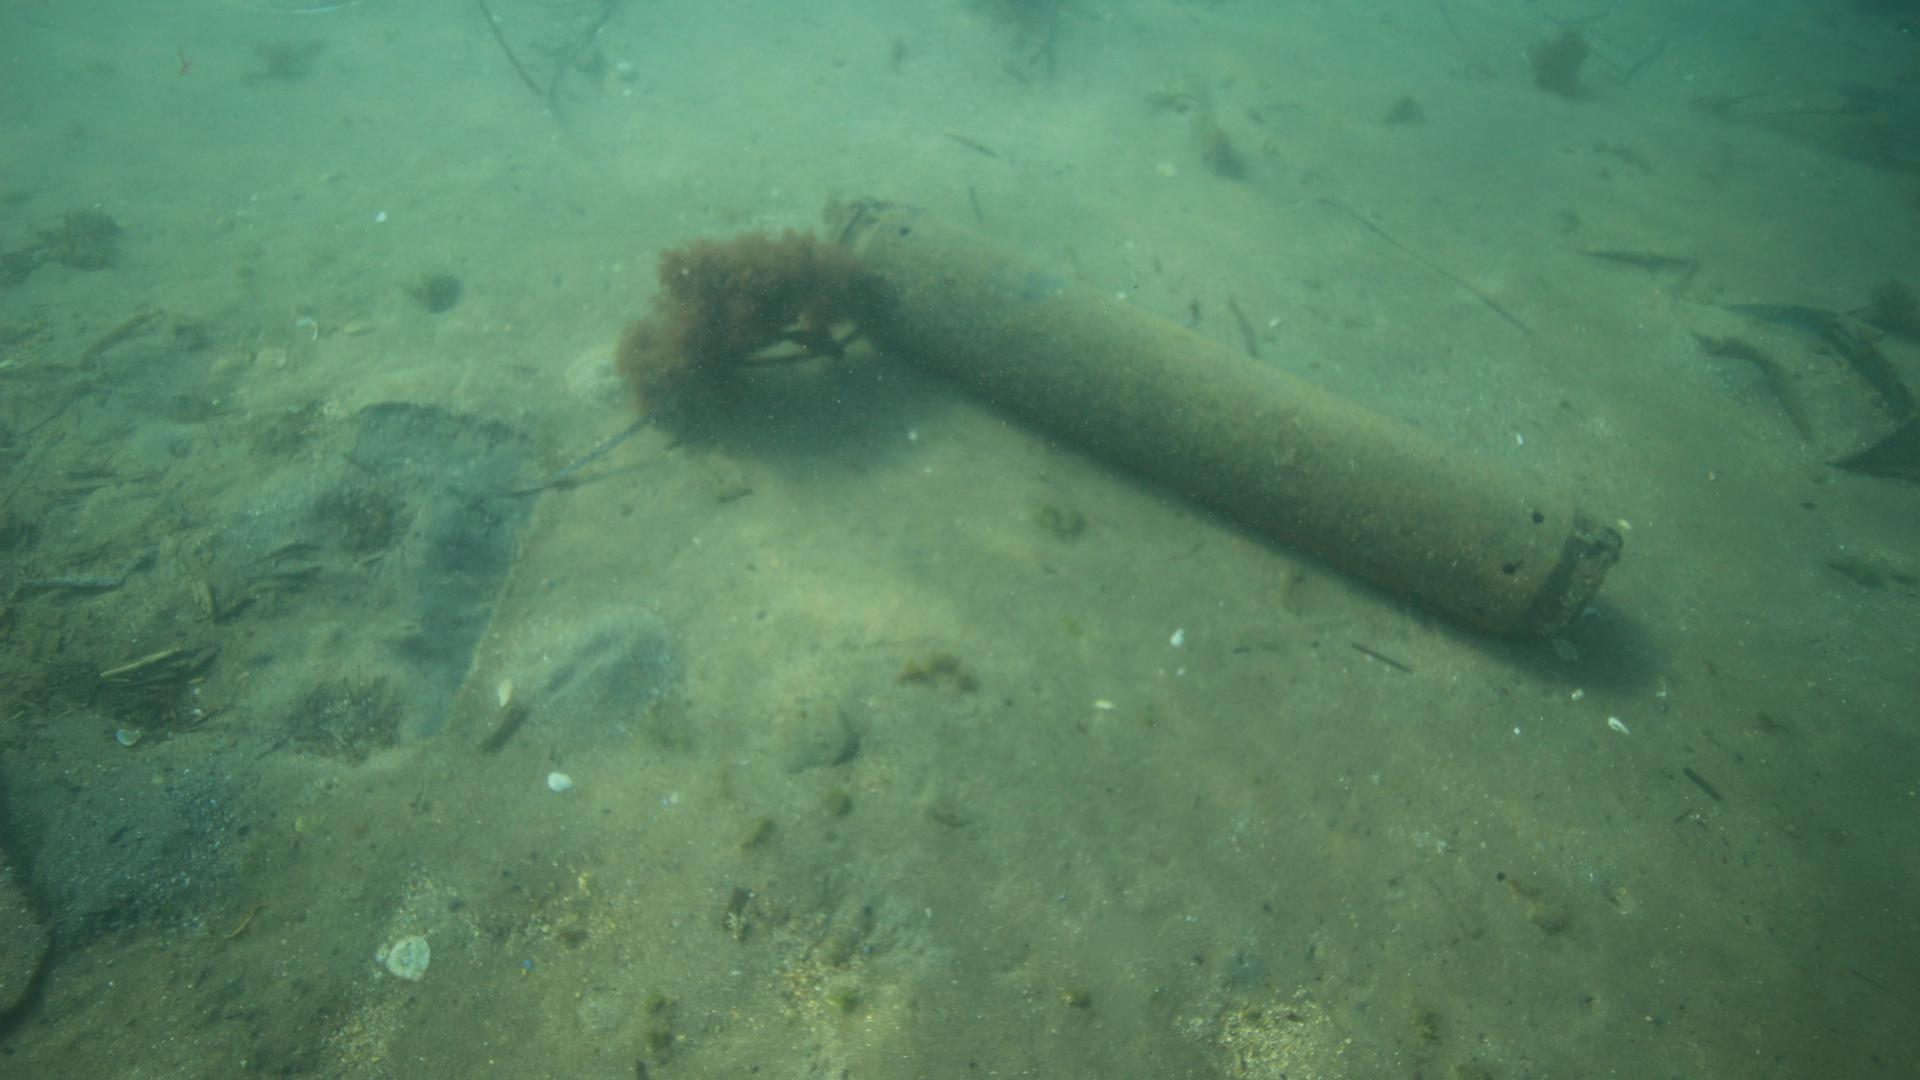eel fish trap: (825, 193, 1629, 653)
